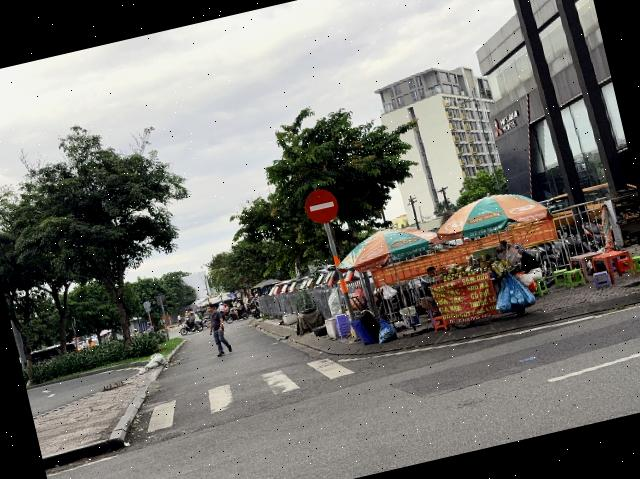cam-di-nguoc-chieu: (301, 185, 341, 226)
